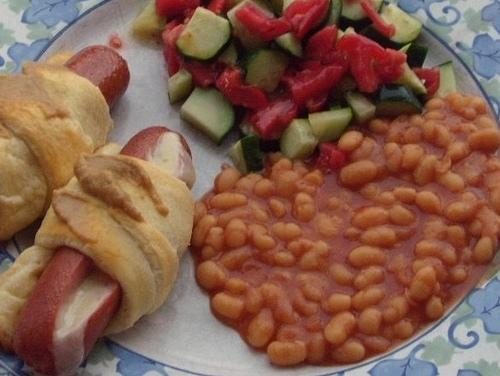vegetable marrow: (280, 108, 354, 162), (180, 87, 235, 146), (175, 7, 233, 62), (227, 0, 277, 54), (240, 47, 290, 92), (381, 3, 423, 48), (374, 83, 424, 118), (226, 134, 264, 175), (390, 62, 428, 98), (132, 1, 166, 39), (341, 90, 376, 124), (167, 67, 194, 105), (397, 42, 428, 70), (432, 60, 456, 96), (215, 36, 242, 68), (275, 31, 303, 59), (238, 113, 257, 140), (326, 0, 343, 28), (341, 0, 363, 20), (339, 70, 358, 90), (328, 100, 342, 111), (283, 0, 295, 11), (344, 26, 358, 34), (337, 28, 345, 42)
